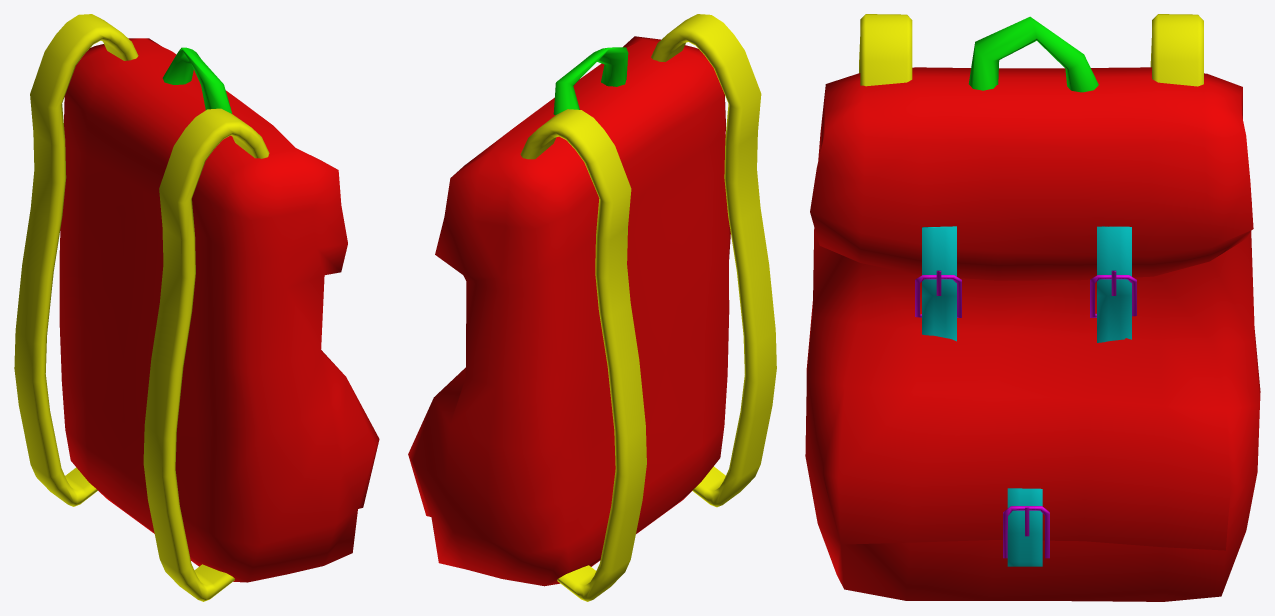
The model's file is sac_low.fbx.
The picture shows the model from 3 angles, left to right: view 1: azimuth 30°, elevation 25°; view 2: azimuth 150°, elevation 25°; view 3: azimuth 270°, elevation 25°; orthographic projection. The views are drawn at different scales.
Parts seen in each view (by area): view 1: sac_low; view 2: sac_low; view 3: sac_low.
Part boxes in pixels (x1,y1,x2,y2): sac_low: [14, 14, 379, 601]; sac_low: [408, 14, 776, 601]; sac_low: [805, 14, 1260, 601].
Bounding box in the file's own units: 0.3261 × 0.7359 × 0.5487.
